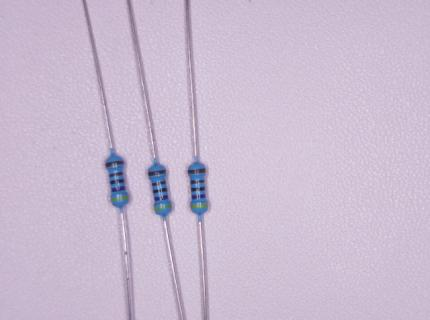Black band: (110, 179, 125, 185), (153, 188, 167, 194), (191, 187, 205, 191)
Brown band: (105, 161, 124, 167), (148, 170, 166, 176), (188, 168, 206, 174), (109, 171, 124, 178), (152, 180, 167, 186), (190, 179, 205, 184)
Violet band: (111, 186, 126, 192), (154, 195, 168, 201), (192, 194, 206, 199)
Yellow band: (154, 204, 172, 211), (110, 196, 129, 202), (191, 204, 208, 208)
